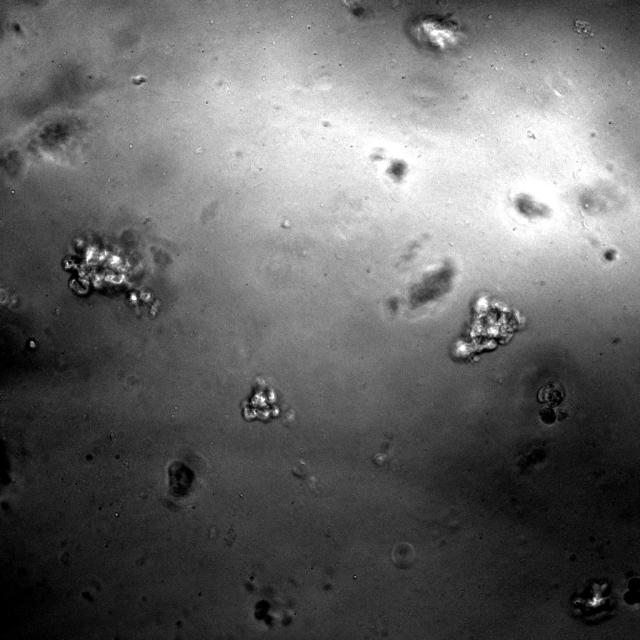organoid: (62, 233, 160, 317), (450, 295, 524, 361), (406, 13, 461, 50), (241, 378, 283, 421), (537, 381, 574, 425), (168, 460, 194, 497)
